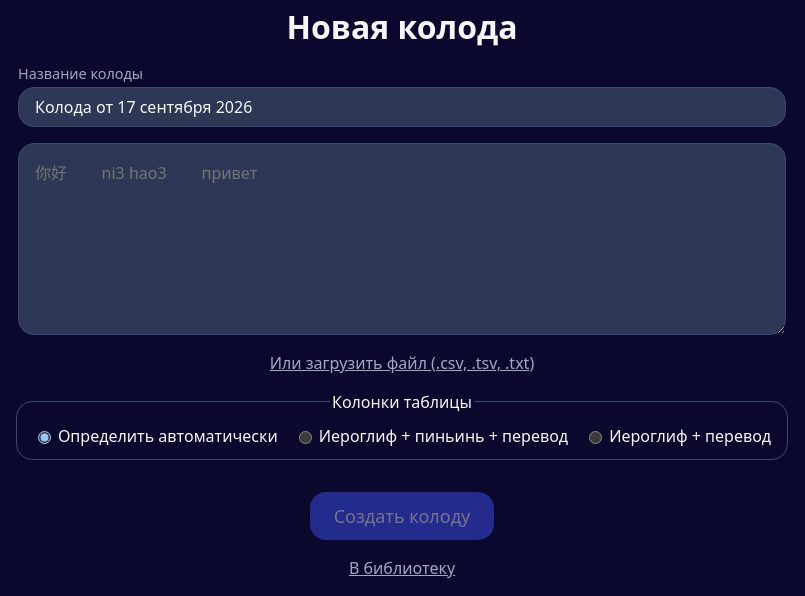
Scenario: App: полный цикл › с пустой библиотекой из импорта можно уйти в библиотеку
Click the button "В библиотеку" at x=402, y=568, box left=343, top=556, right=461, bottom=580
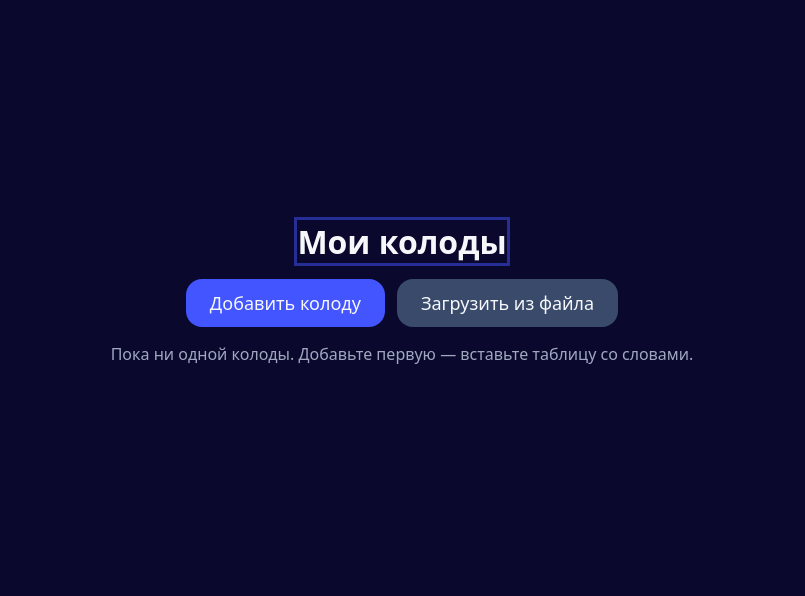
Expected: the heading "Мои колоды" is shown, left=297, top=220, right=507, bottom=262
Expected: the text "Пока ни одной колоды" is shown, left=111, top=342, right=693, bottom=364
Expected: the button "Загрузить из файла" is shown, left=397, top=278, right=618, bottom=326
